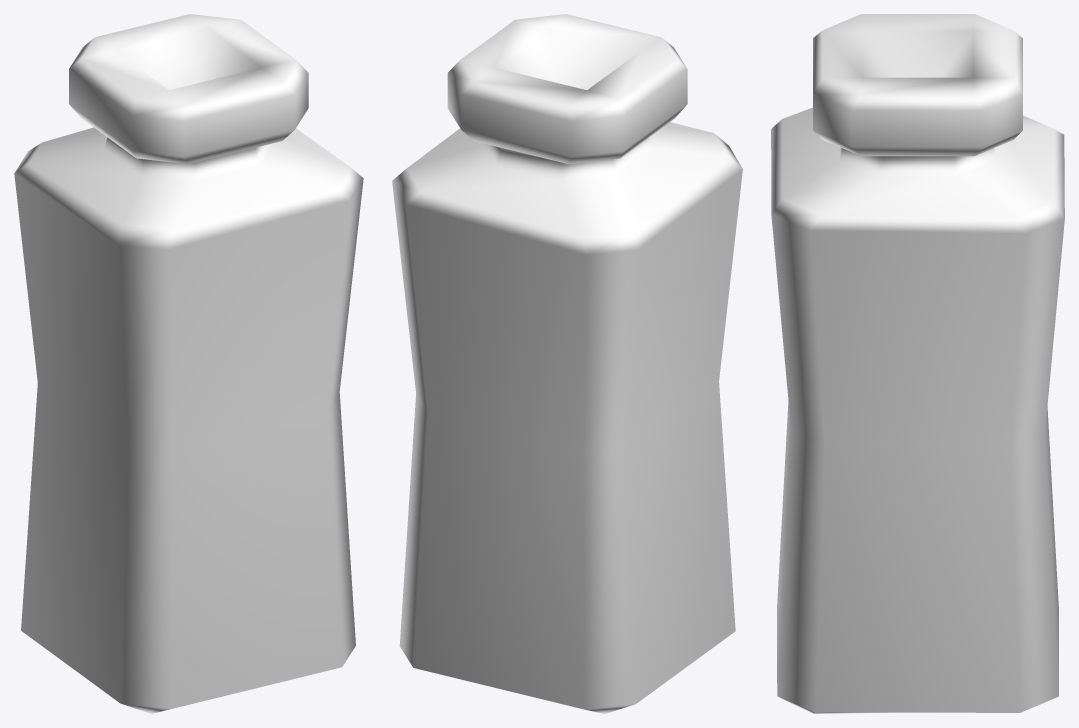
The model's file is CharSkyKid_Prop_NatureSculptureA.glb.
3 views of the same model, side by side, from view 1: azimuth 30°, elevation 25°; view 2: azimuth 150°, elevation 25°; view 3: azimuth 270°, elevation 25° (orthographic). The views are drawn at different scales.
Visible parts, largest first — view 1: CharSkyKid_Prop_NatureSculptureA; view 2: CharSkyKid_Prop_NatureSculptureA; view 3: CharSkyKid_Prop_NatureSculptureA.
Part boxes in pixels (x1=…): CharSkyKid_Prop_NatureSculptureA: x1=14, y1=14, x2=363, y2=713; CharSkyKid_Prop_NatureSculptureA: x1=392, y1=14, x2=742, y2=713; CharSkyKid_Prop_NatureSculptureA: x1=771, y1=14, x2=1064, y2=713.
Bounding box in the file's own units: 0.2845 × 0.6583 × 0.2845.
Materials: 1 (1 with a texture image).
